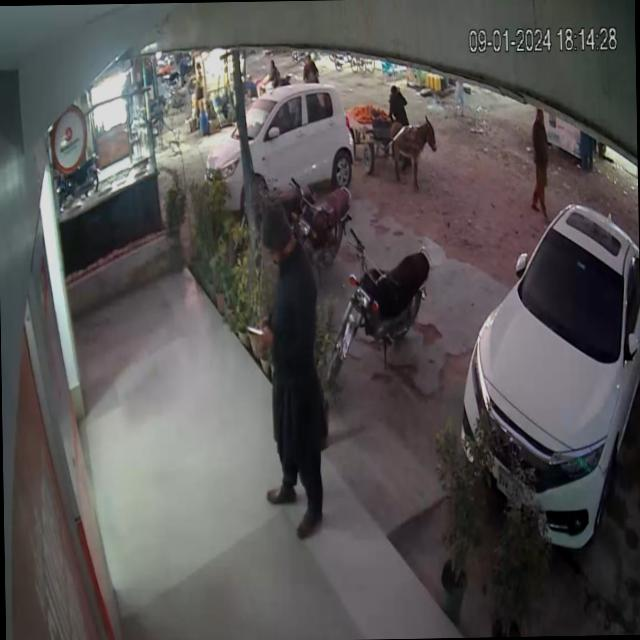Car: (453, 153, 640, 563), (181, 68, 358, 200)
Motorcycle: (322, 215, 443, 390), (287, 174, 359, 274)
